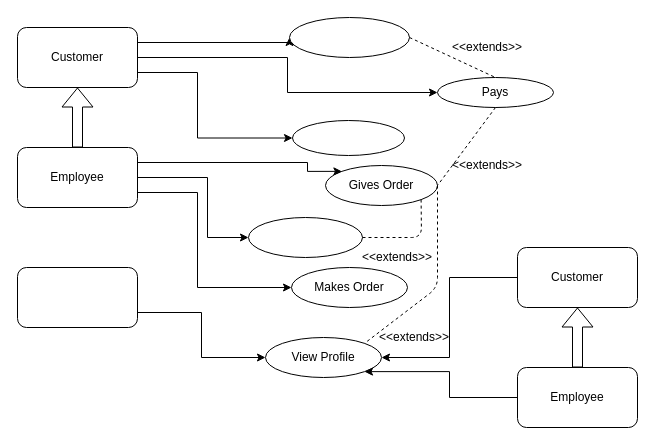
The diagram is 655 pixels wide and 445 high, and some of its shapes have lost their labels. Here are the shapes that lost their labels. From the top down, the box of each, then its label:
(288, 16, 410, 58): Places Order
(292, 120, 404, 156): Adds info to profile
(248, 216, 362, 258): Views Order
(16, 266, 138, 328): Manager
